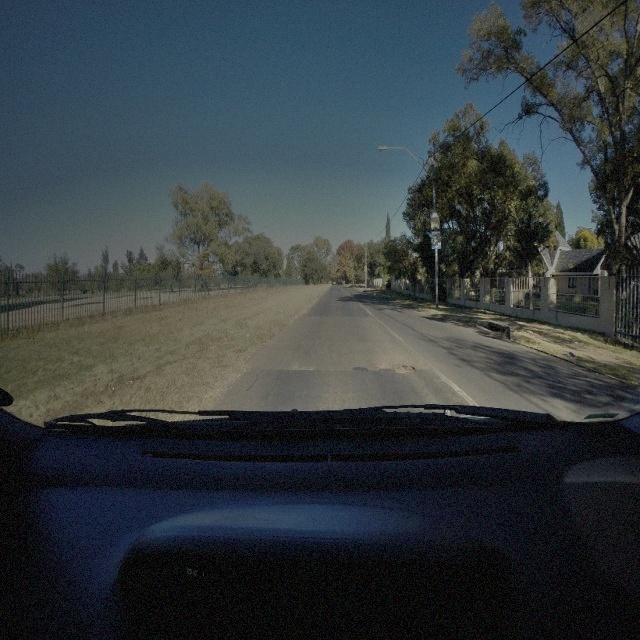pothole: (393, 363, 415, 374)
